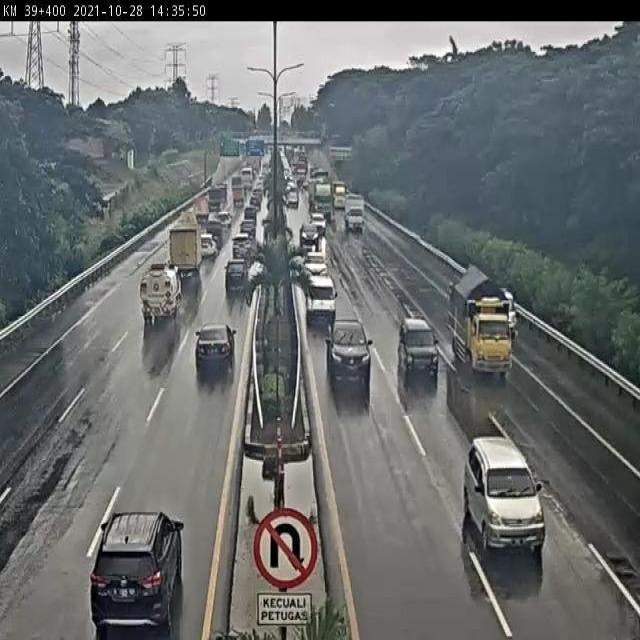big truck: (308, 176, 338, 223)
car: (80, 500, 193, 633), (457, 441, 556, 560), (391, 316, 441, 380), (188, 330, 240, 390), (326, 315, 369, 384), (303, 276, 340, 329), (214, 256, 256, 301), (502, 276, 519, 348), (225, 241, 258, 272), (296, 251, 323, 276), (299, 219, 323, 245), (309, 210, 330, 238), (198, 231, 217, 261)
small truck: (453, 264, 510, 377), (130, 255, 185, 333), (167, 221, 207, 280), (344, 188, 367, 243)
